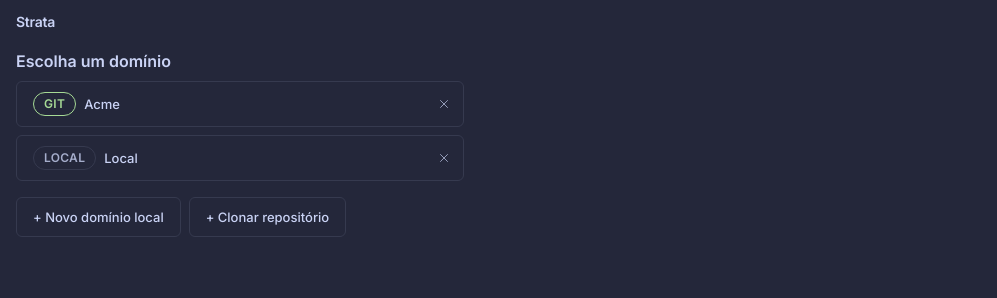
Test: DomainPicker › Anexar repositório reveals the optional remote URL field
The image size is (997, 298).
Click the button "Local Local" at [65, 158], box left=16, top=135, right=464, bottom=181
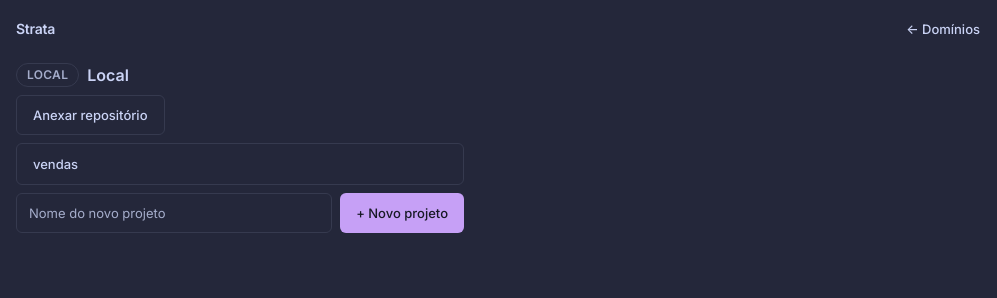
Check: the button "Anexar repositório" is shown
Click the button "Anexar repositório" at [90, 115], box left=16, top=95, right=164, bottom=135
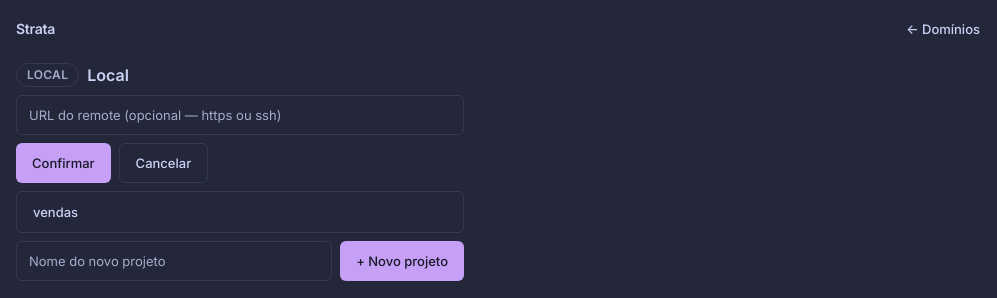
Check: the field with placeholder "URL do remote (opcional — https ou ssh)" is shown, box left=16, top=95, right=464, bottom=135
